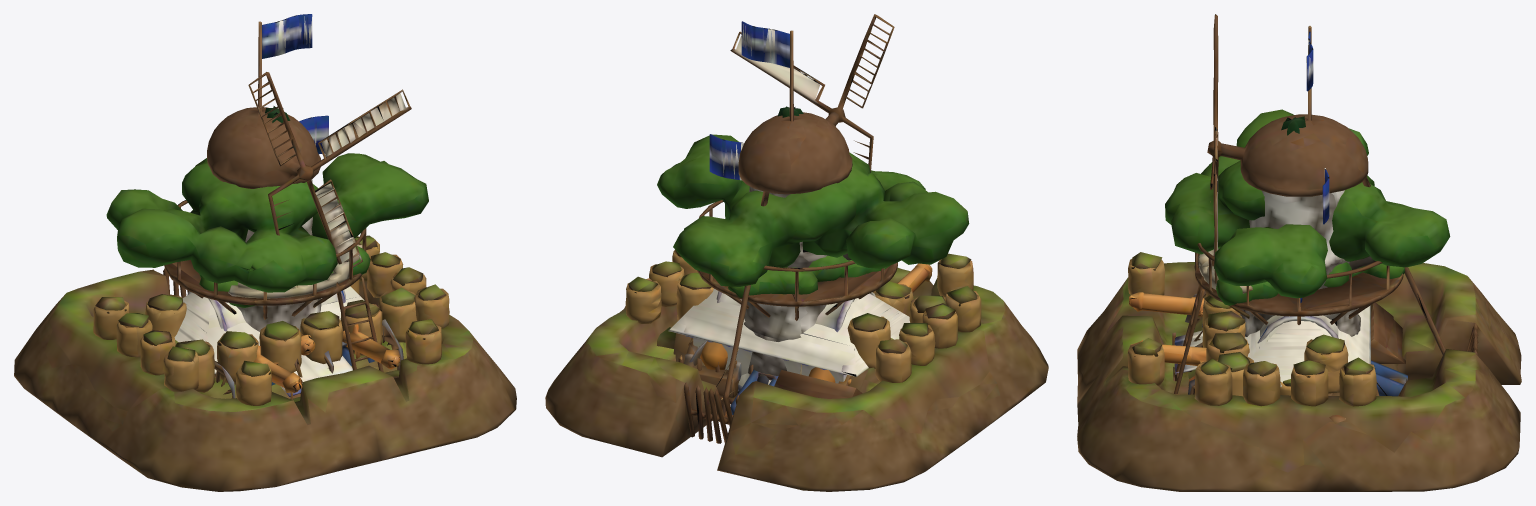
Rendered from gunpowder_decor_fortress.glb.
3 renders of one model, left to right at view 1: azimuth 30°, elevation 25°; view 2: azimuth 150°, elevation 25°; view 3: azimuth 270°, elevation 25°, orthographic. The views are drawn at different scales.
Parts seen in each view (by area): view 1: Redoubt, Oak_A, Windmill, Battery, Marquee, Rampart, Wagon, Oak_B; view 2: Redoubt, Oak_A, Windmill, Marquee, Rampart, Battery, Oak_B, Wagon; view 3: Redoubt, Oak_A, Windmill, Marquee, Battery, Oak_B, Rampart, Gun, Wagon.
Boxes of the visible parts, x1,y1,x2,y2 form: Redoubt: [14, 115, 516, 491]; Oak_A: [106, 153, 428, 292]; Windmill: [164, 14, 411, 371]; Battery: [175, 287, 416, 398]; Marquee: [174, 286, 364, 399]; Rampart: [145, 279, 359, 336]; Wagon: [187, 290, 345, 331]; Oak_B: [199, 246, 370, 307]; Redoubt: [545, 134, 1048, 491]; Oak_A: [657, 134, 969, 286]; Windmill: [696, 14, 897, 415]; Marquee: [668, 288, 909, 386]; Rampart: [657, 272, 890, 393]; Battery: [624, 281, 946, 417]; Oak_B: [728, 255, 889, 297]; Wagon: [716, 291, 875, 332]; Redoubt: [1077, 168, 1521, 491]; Oak_A: [1165, 109, 1450, 298]; Windmill: [1174, 14, 1445, 393]; Marquee: [1172, 298, 1387, 395]; Battery: [1188, 293, 1379, 423]; Oak_B: [1216, 262, 1404, 305]; Rampart: [1304, 334, 1348, 395]; Gun: [1203, 322, 1407, 396]; Wagon: [1257, 315, 1338, 343].
Size of the model in its own units: 4.16 by 4.08 by 4.16.
Materials: 1 (1 with a texture image).
